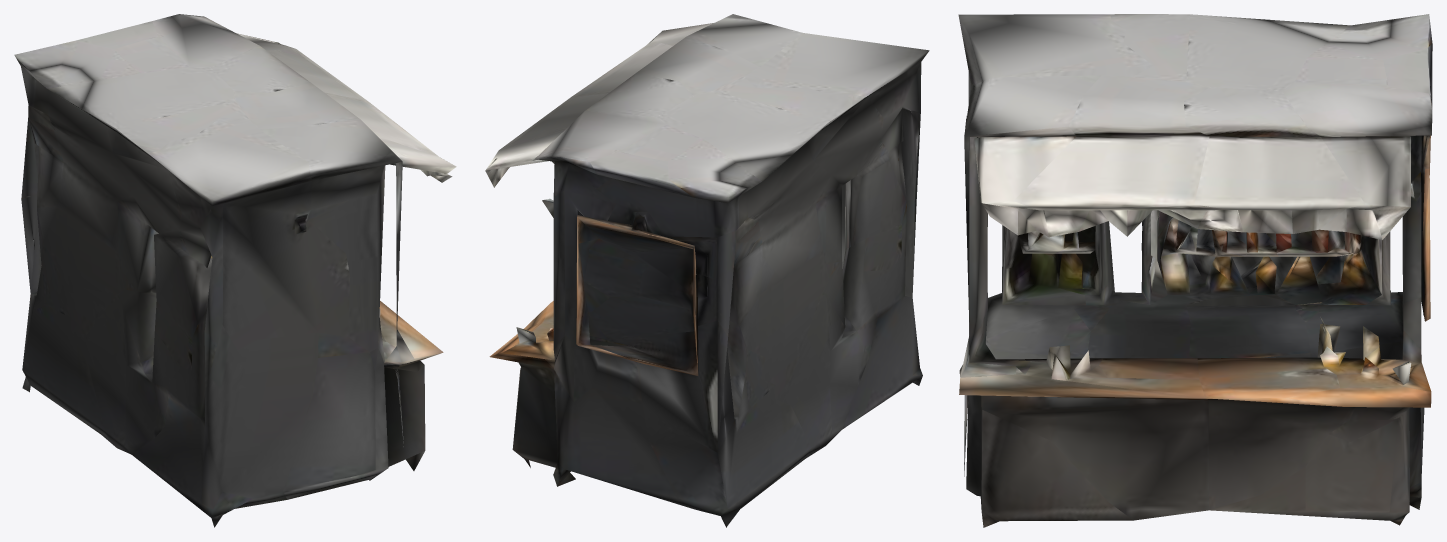
Rendered from stand.glb.
3 views of the same model, side by side, from view 1: azimuth 30°, elevation 25°; view 2: azimuth 150°, elevation 25°; view 3: azimuth 270°, elevation 25° (orthographic). The views are drawn at different scales.
Visible parts, largest first — view 1: tripo_node_a936f97f-35aa-45bb-a897-00fef22bd59e; view 2: tripo_node_a936f97f-35aa-45bb-a897-00fef22bd59e; view 3: tripo_node_a936f97f-35aa-45bb-a897-00fef22bd59e.
Part boxes in pixels (x1=…): tripo_node_a936f97f-35aa-45bb-a897-00fef22bd59e: x1=14, y1=14, x2=456, y2=527; tripo_node_a936f97f-35aa-45bb-a897-00fef22bd59e: x1=485, y1=14, x2=929, y2=527; tripo_node_a936f97f-35aa-45bb-a897-00fef22bd59e: x1=958, y1=14, x2=1432, y2=527.
Size of the model in its own units: 0.7192 by 0.8975 by 0.9726.
Materials: 1 (1 with a texture image).
